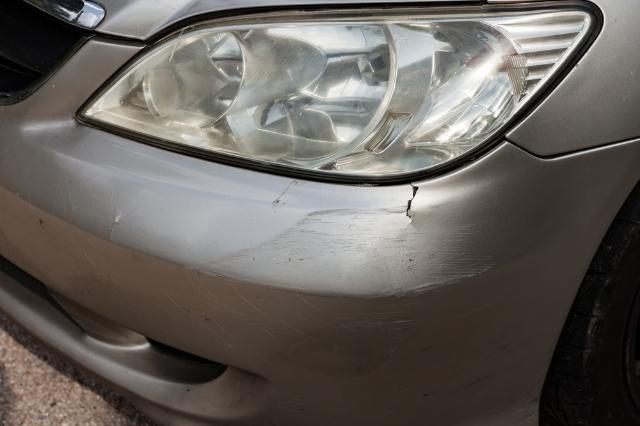crack: (405, 184, 420, 231)
scratch: (181, 203, 498, 342)
